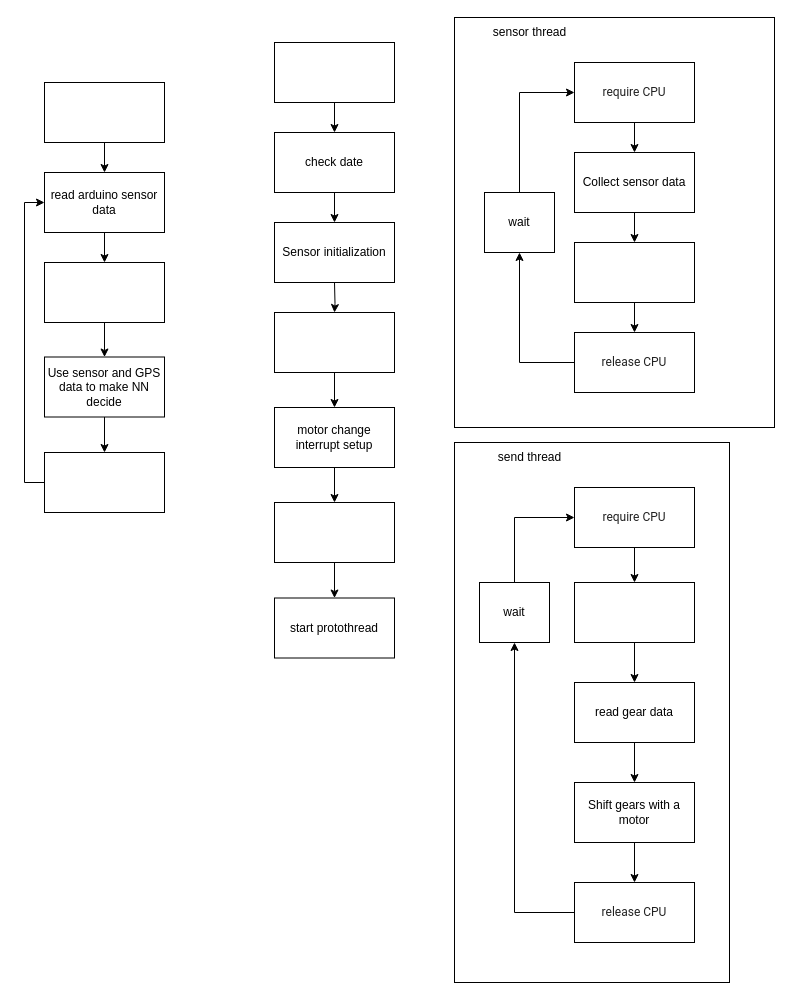
This 792x1000 diagram has some shape labels left out. Each missing label, with the centre of its shape:
arduino start: [334,72]
collect GPS and OSM data: [104,292]
Motor initialization: [334,342]
protothread setup: [334,532]
rpi start: [104,112]
Save data locally: [634,272]
send data by I 2 C: [634,612]
send gear data to arduino: [104,482]
